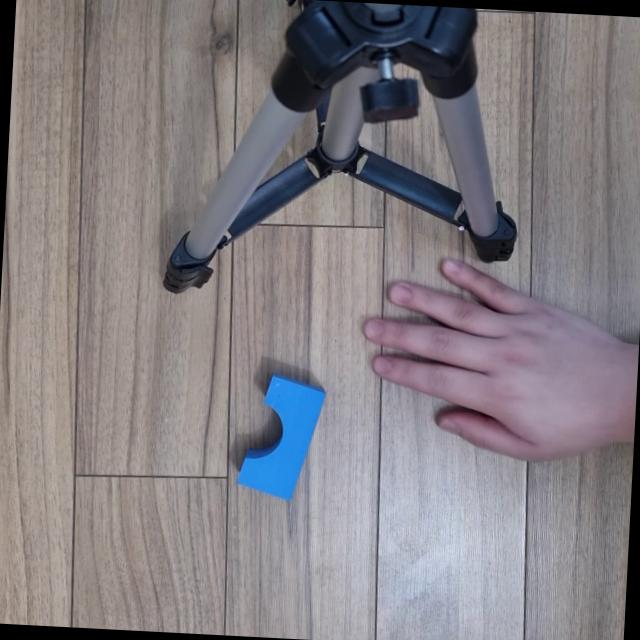block: (228, 356, 332, 512)
hand: (332, 231, 640, 490)
